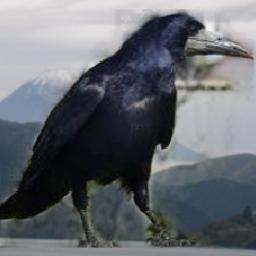Crow: (0, 10, 255, 249)
